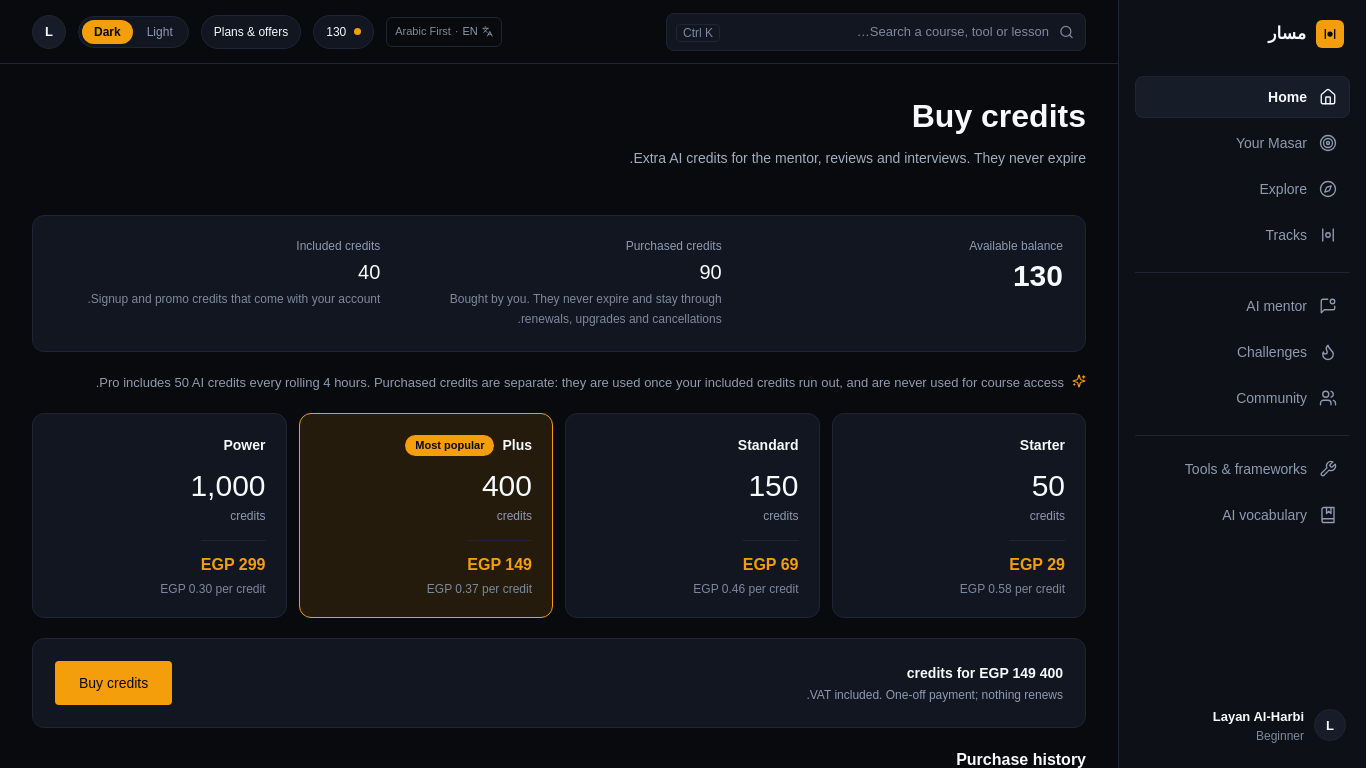
Test: Buy credits › says so when too many unpaid orders are open, and nothing was started
The image size is (1366, 768).
Step 1. Click the button "Buy credits" → click(114, 683), box [55,661,172,705]
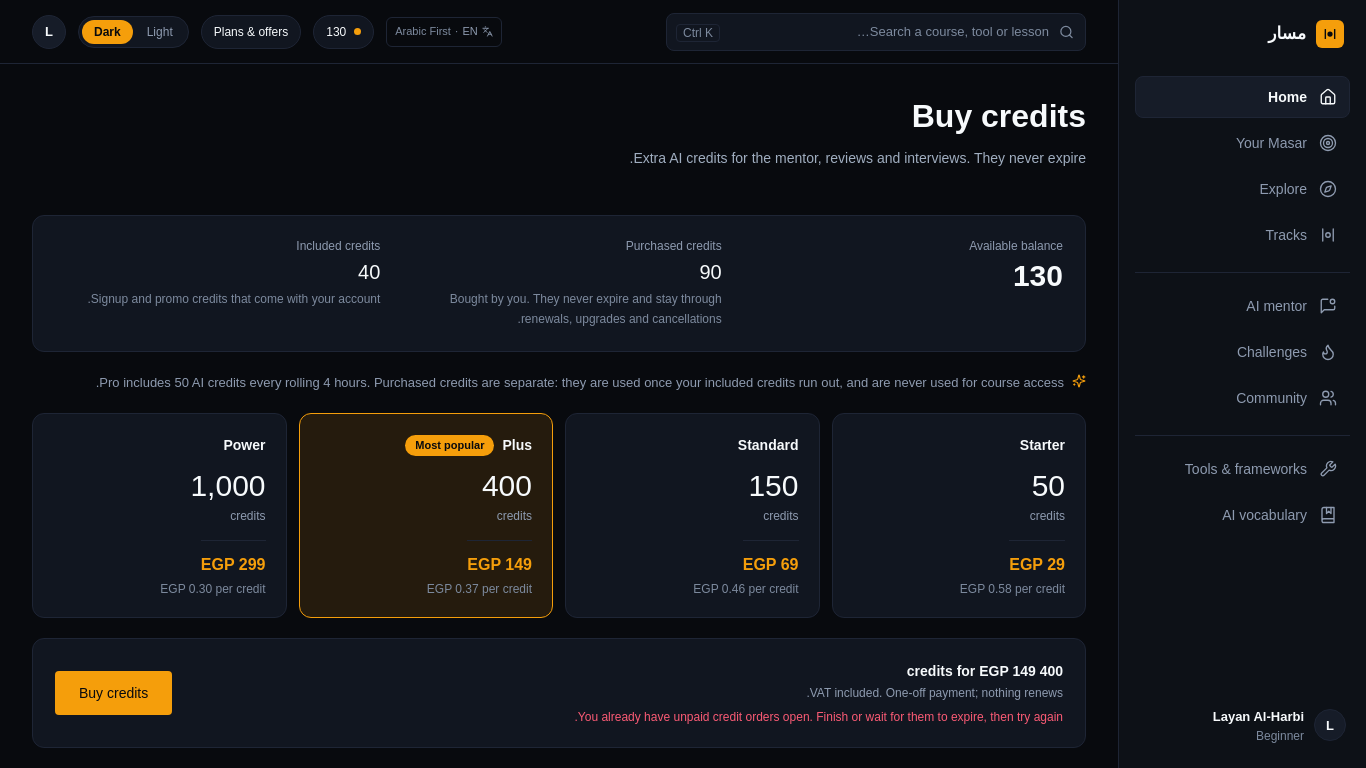
Expected: the message shows "unpaid credit orders", [574,710,1063,724]
